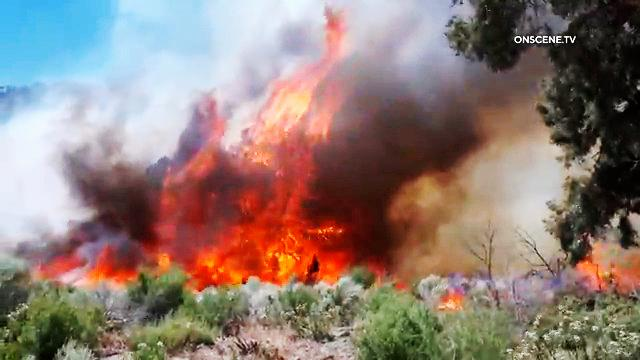fire: (249, 22, 364, 312), (115, 237, 249, 314), (20, 244, 96, 295)
smoke: (81, 101, 244, 223), (379, 15, 471, 183), (480, 116, 557, 248), (385, 191, 463, 319), (180, 0, 283, 85)
